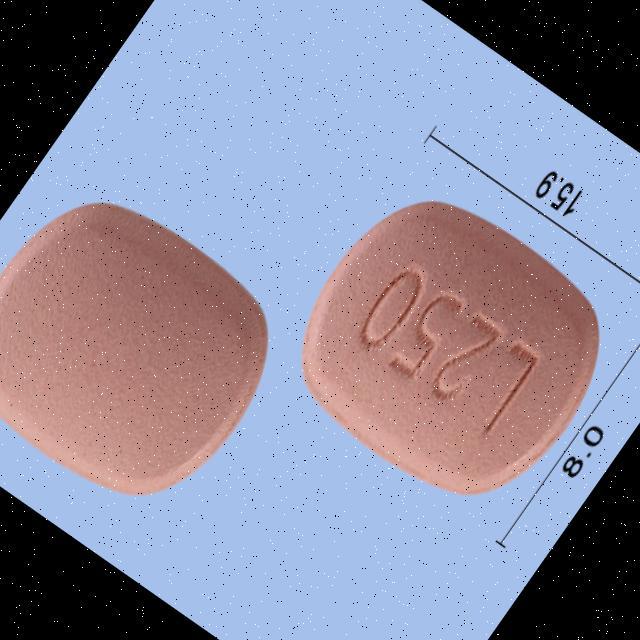Levoby - 500mg: (258, 164, 636, 536), (0, 165, 305, 538)
